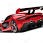car: (2, 6, 42, 31)
